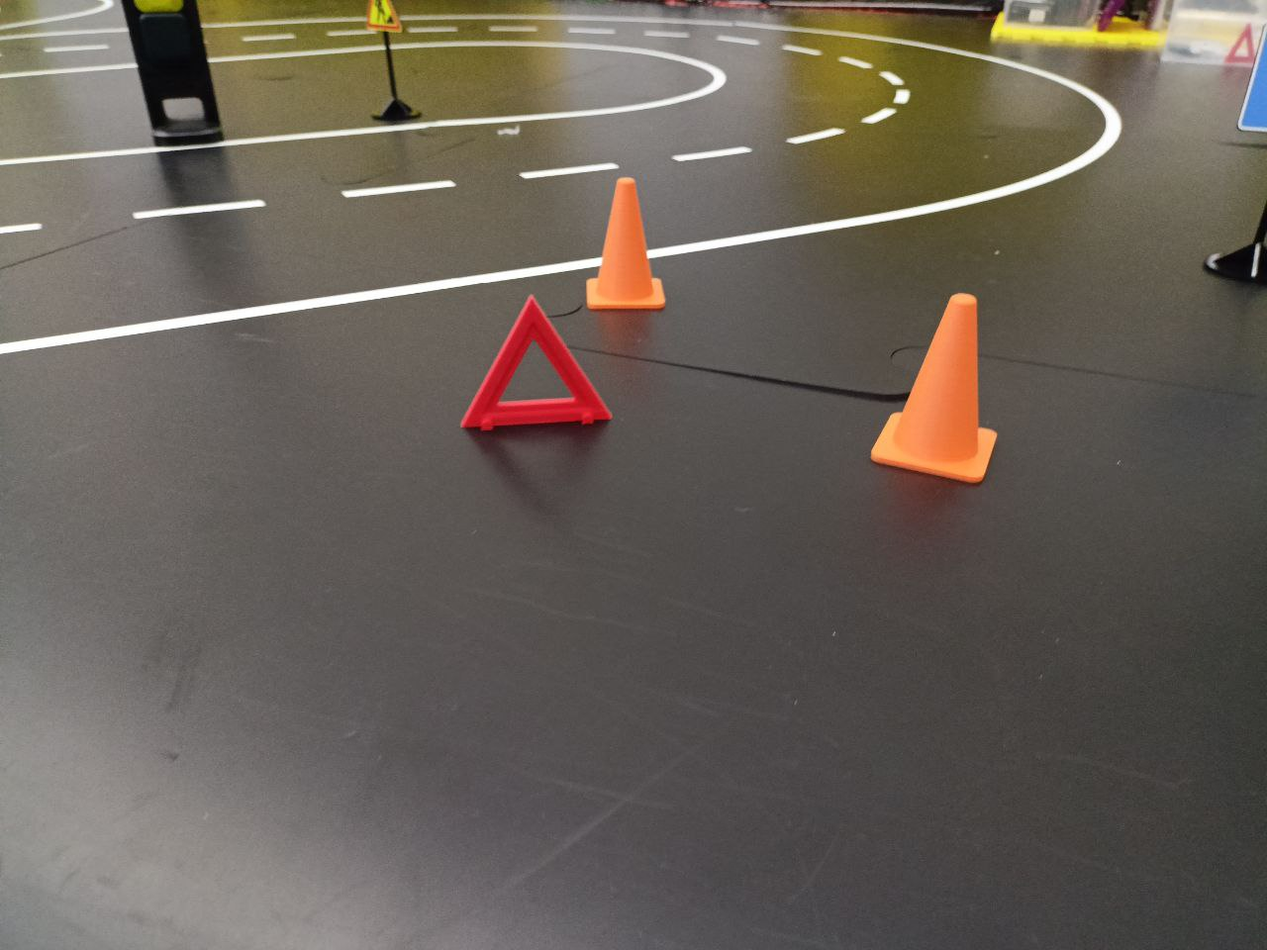Parking: (851, 277, 1011, 500), (439, 284, 621, 454), (562, 168, 682, 323)
